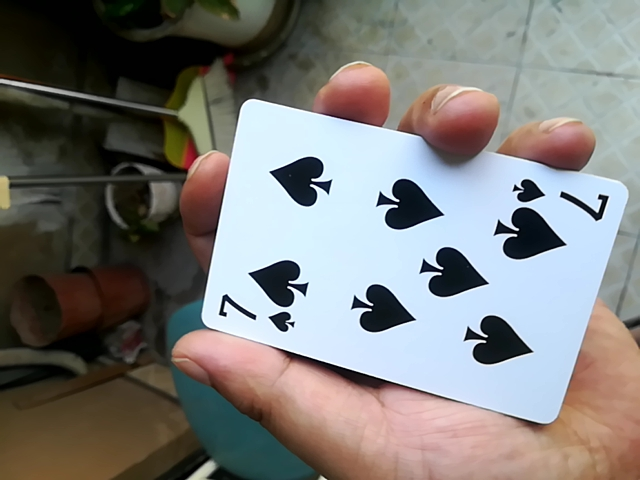ht 7: (187, 93, 629, 425)
